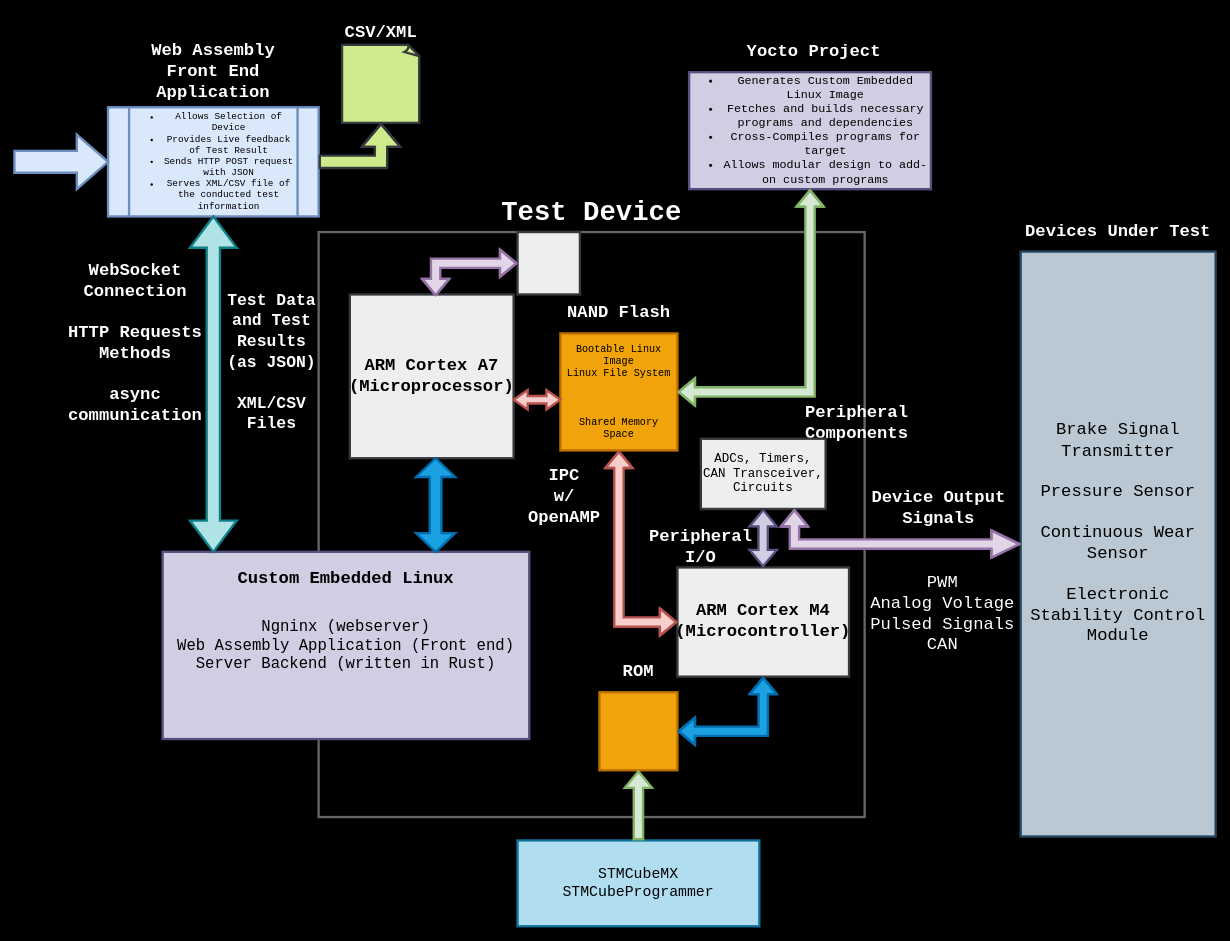
Some shapes in this 1230 by 941 pixel diagram are drawn without their labels. The shapes that lost their labels are listed below. From the top down, each one's box as (x1, y1, x2, y2) in pixels, then its label:
(340, 43, 421, 124): Specific Information on Test Results
(13, 133, 109, 190): User Input
(516, 230, 581, 295): Wi-Fi Module
(598, 691, 678, 771): Microcontroller Code
